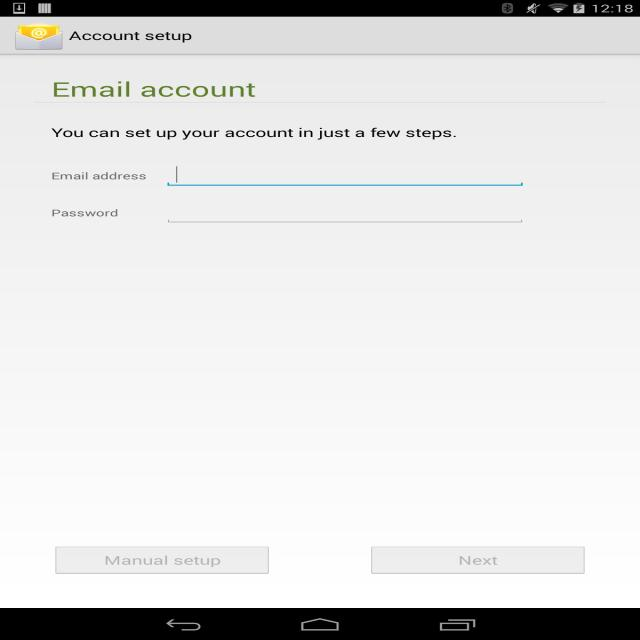button: (369, 544, 586, 574), (54, 546, 268, 574)
field: (160, 160, 527, 187), (162, 198, 528, 225)
heading: (48, 78, 263, 104), (69, 27, 196, 46)
image: (12, 24, 66, 51)
label: (48, 170, 148, 181), (52, 206, 120, 219)
text: (49, 124, 461, 143)
